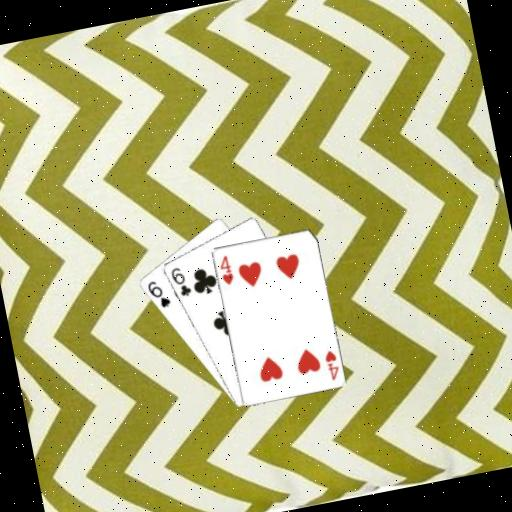4H: (215, 252, 237, 288), (321, 346, 342, 382)
6C: (167, 263, 194, 300)
6S: (143, 276, 173, 312)
